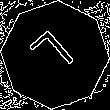L_SE: (27, 26, 83, 84)
